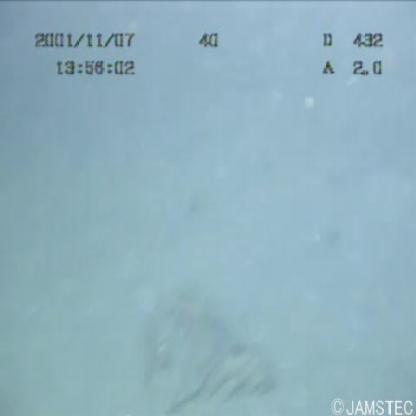Rác: (124, 259, 289, 416)
